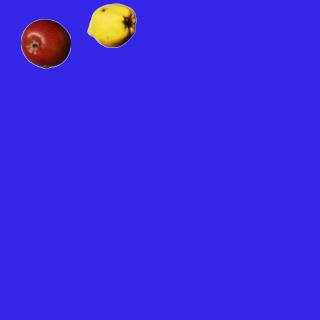Apple Braeburn: (20, 18, 70, 68)
Quince: (86, 0, 136, 50)
